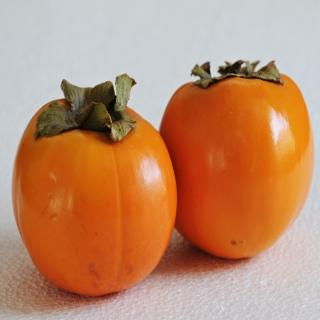tomato: (14, 85, 180, 295), (159, 61, 317, 265)
